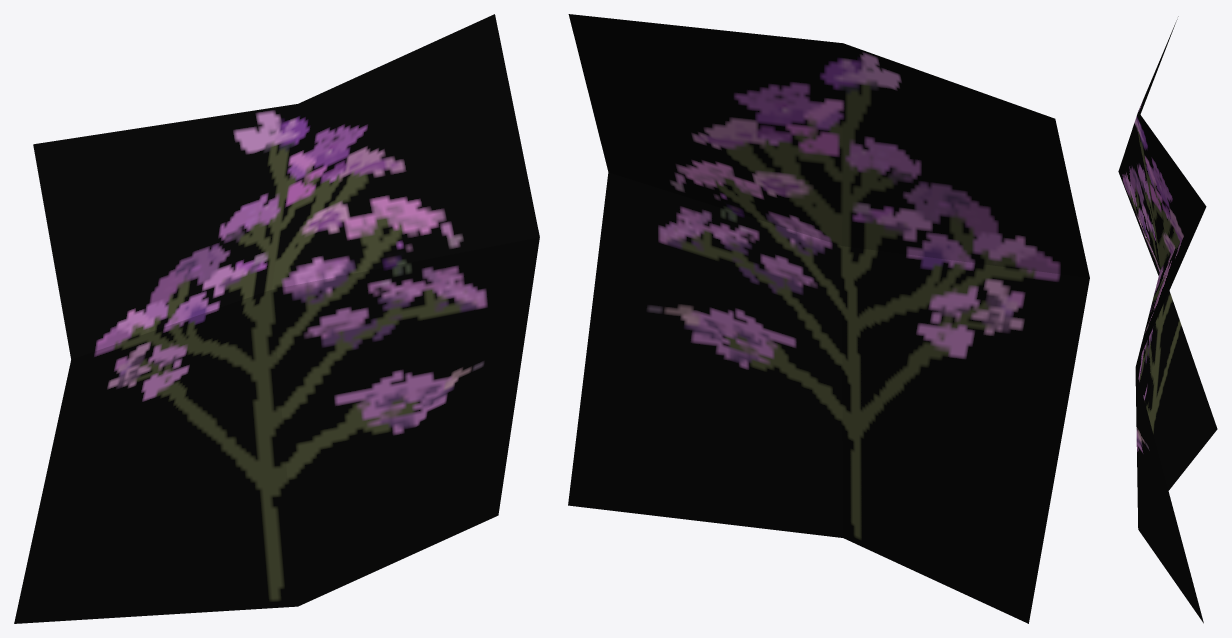
File: Limonium.fbx
3 renders of one model, left to right at view 1: azimuth 30°, elevation 25°; view 2: azimuth 150°, elevation 25°; view 3: azimuth 270°, elevation 25°, orthographic. The views are drawn at different scales.
Parts seen in each view (by area): view 1: Limonium; view 2: Limonium; view 3: Limonium.
Part boxes in pixels (x1,y1,x2,y2): Limonium: (14, 14, 539, 623); Limonium: (568, 14, 1089, 623); Limonium: (1118, 16, 1217, 623).
Size of the model in its own units: 63.72 by 63.94 by 13.7.
